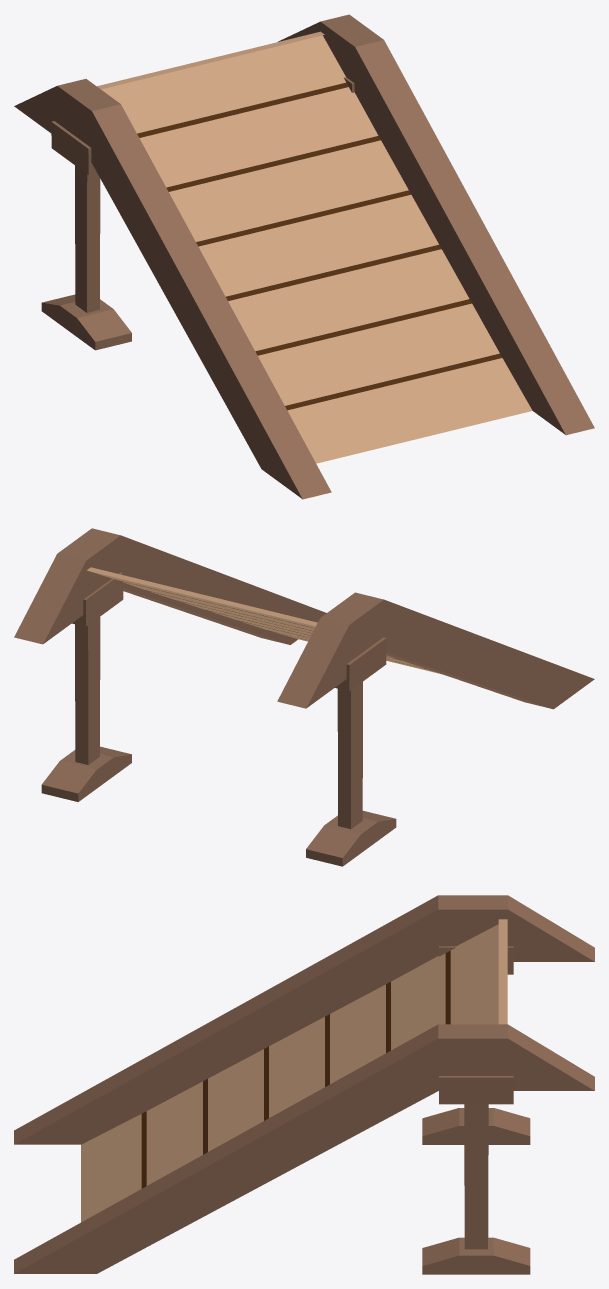
File: quaternius-ultimate-space-ramp.glb
3 views of the same model, one above another, from view 1: azimuth 30°, elevation 25°; view 2: azimuth 150°, elevation 25°; view 3: azimuth 270°, elevation 25° (orthographic).
Visible parts, largest first — view 1: Ramp; view 2: Ramp; view 3: Ramp.
Boxes of the visible parts, x1,y1,x2,y2 form: Ramp: (14, 14, 594, 499); Ramp: (14, 528, 594, 866); Ramp: (14, 895, 594, 1274).
Bounding box in the file's own units: 1.87 × 1.39 × 3.11.
Materials: 1 (1 with a texture image).
